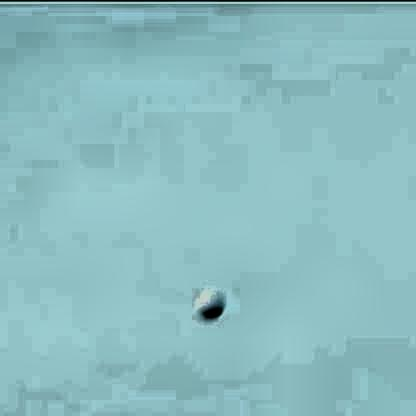golfball: (191, 284, 222, 317)
